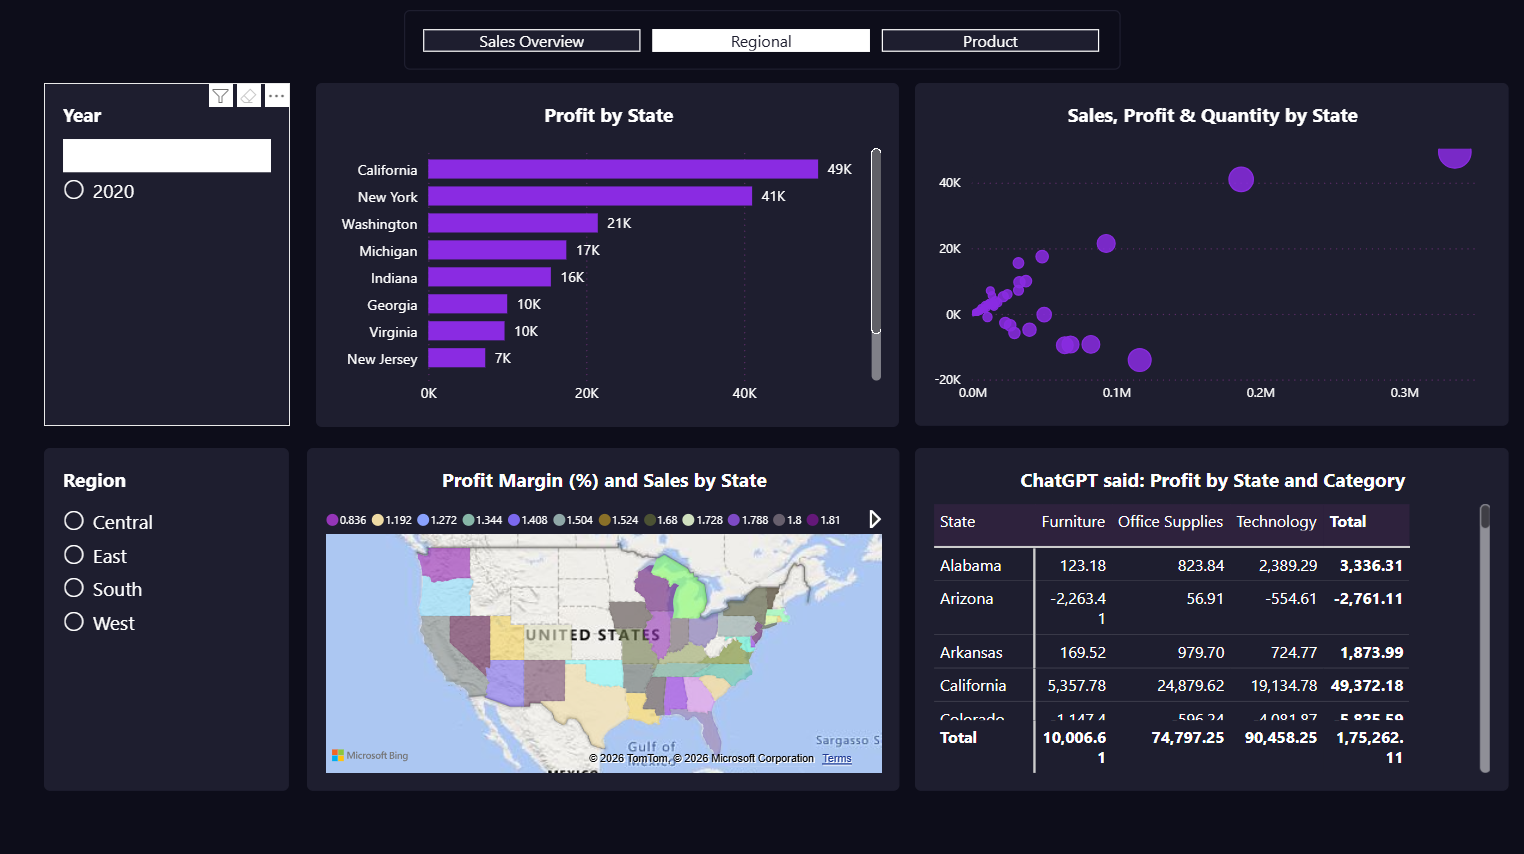

The dashboard page shown, as its layout file describes it:
{"tool":"powerbi","page":{"name":"Regional ","canvas":[1280,720],"ordinal":1},"visuals":[{"type":"pageNavigator","box":[340.1,11.5,599.8,50.4],"z":0},{"type":"barChart","title":"Profit by State","fields":{"Category":["SuperStoreSalesData.State"],"Y":["SuperStoreSalesData.Total Profit"]},"box":[266.5,72.5,488.2,288.1],"z":1000},{"type":"scatterChart","title":"Sales, Profit & Quantity by State","fields":{"Size":["Sum(SuperStoreSalesData.Quantity)"],"Category":["SuperStoreSalesData.State"],"X":["Sum(SuperStoreSalesData.Sales)"],"Y":["Sum(SuperStoreSalesData.Profit)"]},"box":[767.7,72.5,496.8,287.2],"z":2000},{"type":"listSlicer","fields":{"Values":["SuperStoreSalesData.Region"]},"box":[38.8,378.7,205.3,287.2],"z":3000},{"type":"listSlicer","fields":{"Values":["SuperStoreSalesData.Order Date.Variation.Date Hierarchy.Year"]},"box":[38.8,72.5,205.3,287.2],"z":4000},{"type":"pivotTable","title":"ChatGPT said:  Profit by State and Category","fields":{"Rows":["SuperStoreSalesData.State"],"Columns":["SuperStoreSalesData.Category"],"Values":["Sum(SuperStoreSalesData.Profit)"]},"box":[767.7,378.7,496.8,287.2],"z":5000},{"type":"filledMap","title":"Profit Margin (%) and Sales by State","fields":{"Category":["SuperStoreSalesData.State"],"Series":["SuperStoreSalesData.Sales"]},"box":[258.8,378.7,496,287.2],"z":6000}]}

Visuals, with their boxes in screenshot pixels (x1, y1, x2, y2), scaled from the page's 1280x720 canvas onto the 1524x854 screenshot:
pageNavigator: 405, 14, 1119, 73
"Profit by State" barChart: 317, 86, 899, 428
"Sales, Profit & Quantity by State" scatterChart: 914, 86, 1506, 427
listSlicer - SuperStoreSalesData.Region: 46, 449, 291, 790
listSlicer - SuperStoreSalesData.Order Date.Variation.Date Hierarchy.Year: 46, 86, 291, 427
"ChatGPT said:  Profit by State and Category" pivotTable: 914, 449, 1506, 790
"Profit Margin (%) and Sales by State" filledMap: 308, 449, 899, 790
